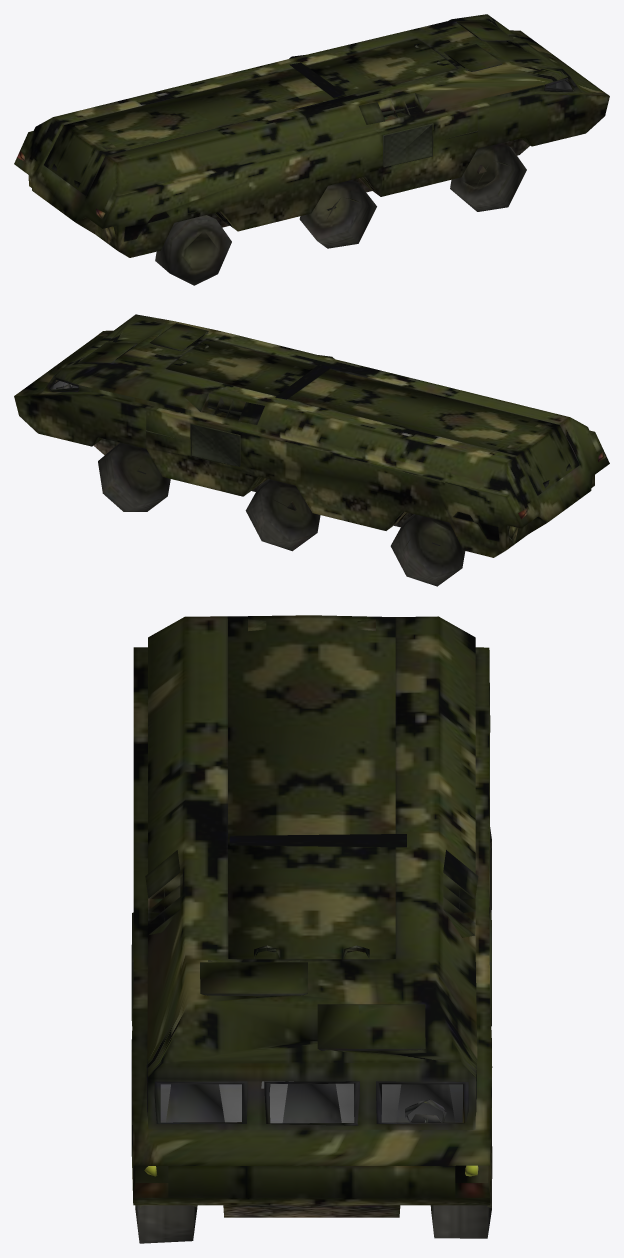
Rendered from tochka_lo.glb.
The picture shows the model from 3 angles, top to bottom: view 1: azimuth 30°, elevation 25°; view 2: azimuth 150°, elevation 25°; view 3: azimuth 270°, elevation 25°; orthographic projection. The views are drawn at different scales.
Visible parts, largest first — view 1: g_tochka_hull; view 2: g_tochka_hull; view 3: g_tochka_hull.
Part boxes in pixels (<box>): g_tochka_hull: <box>14,14,609,285</box>; g_tochka_hull: <box>14,314,609,586</box>; g_tochka_hull: <box>131,615,492,1243</box>.
Bounding box in the file's own units: 9.41 × 2.36 × 2.87.
Materials: 2 (2 with a texture image).
